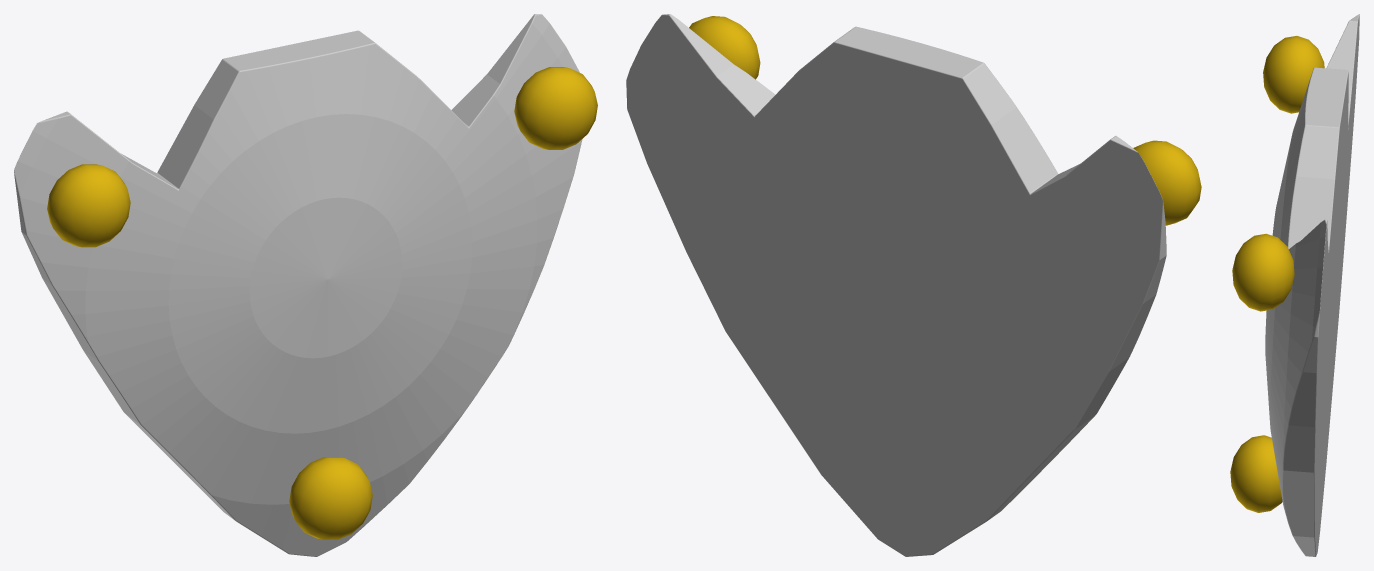
The picture shows the model from 3 angles, left to right: view 1: azimuth 30°, elevation 25°; view 2: azimuth 150°, elevation 25°; view 3: azimuth 270°, elevation 25°; orthographic projection. The views are drawn at different scales.
Visible parts, largest first — view 1: shield, stud, stud.001, stud.002; view 2: shield, stud, stud.001; view 3: shield, stud.001, stud, stud.002.
Part boxes in pixels (box(x1,y1,x2,y2)): shield: box(14, 14, 582, 556); stud: box(47, 164, 130, 247); stud.001: box(514, 67, 597, 149); stud.002: box(289, 457, 372, 539); shield: box(626, 14, 1166, 556); stud: box(1133, 140, 1201, 225); stud.001: box(689, 16, 760, 79); shield: box(1265, 14, 1359, 556); stud.001: box(1232, 233, 1294, 311); stud: box(1263, 36, 1324, 113); stud.002: box(1230, 435, 1282, 512).
Bounding box in the file's own units: 1.46 × 1.28 × 0.3308.
